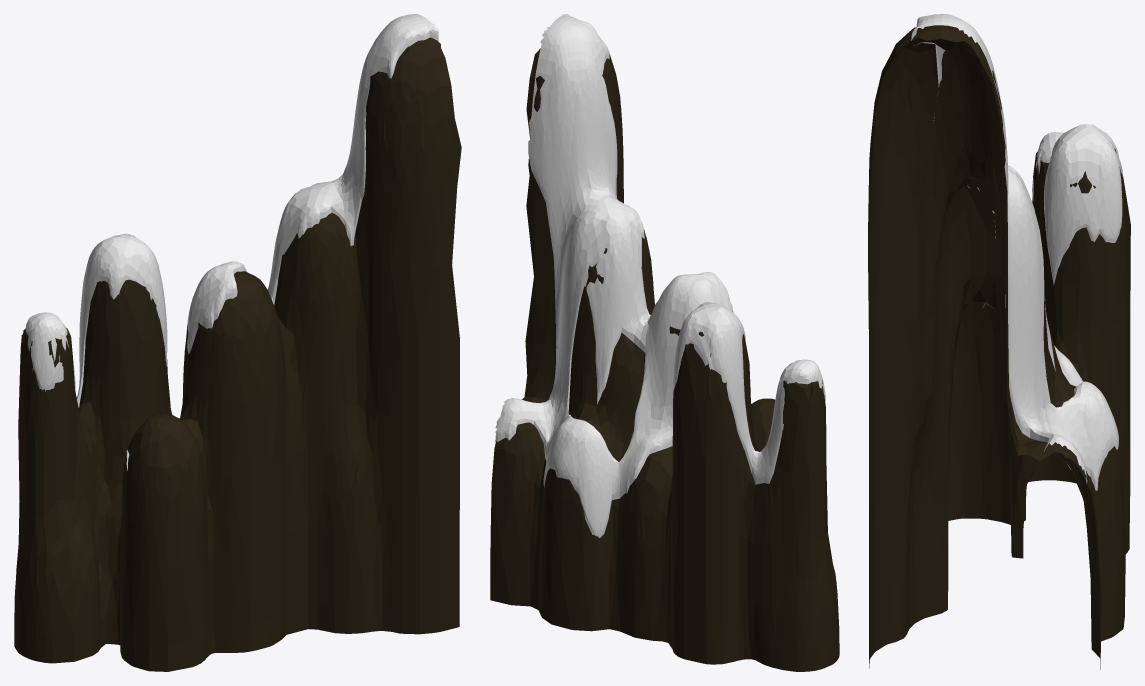
Rendered from Mtn_Wall_S2_M.fbx.
3 renders of one model, left to right at view 1: azimuth 30°, elevation 25°; view 2: azimuth 150°, elevation 25°; view 3: azimuth 270°, elevation 25°, orthographic. The views are drawn at different scales.
Visible parts, largest first — view 1: Mtn_Wall_S2_M; view 2: Mtn_Wall_S2_M; view 3: Mtn_Wall_S2_M.
Boxes of the visible parts, x1,y1,x2,y2 form: Mtn_Wall_S2_M: (14, 14, 461, 671); Mtn_Wall_S2_M: (490, 14, 839, 671); Mtn_Wall_S2_M: (868, 14, 1130, 669).
Bounding box in the file's own units: 16754 × 25898 × 9547.
